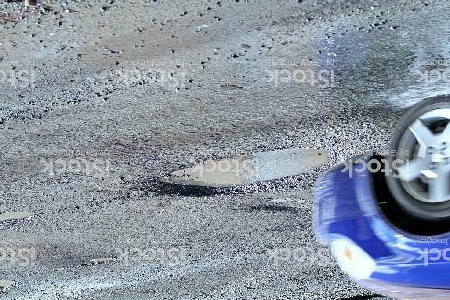pothole: (139, 142, 336, 199), (0, 209, 36, 224)
